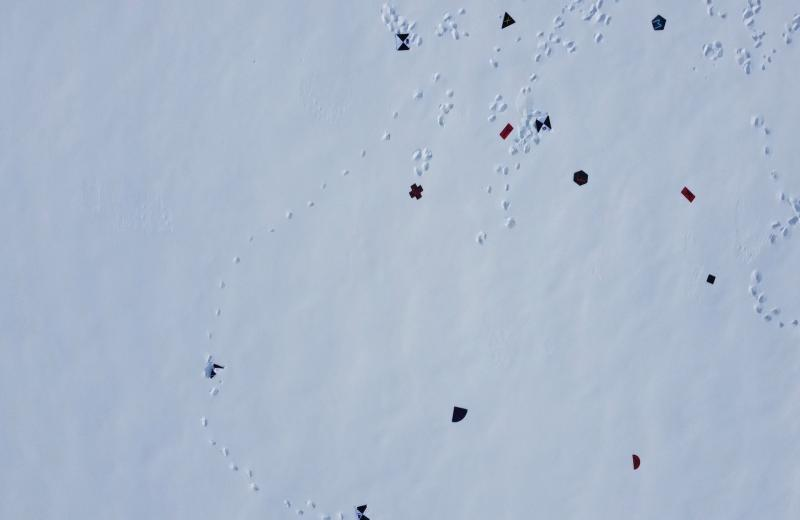Cross: (408, 184, 424, 202)
Hexagon: (572, 170, 590, 188)
Pentagon: (650, 14, 668, 32)
Quarter Circle: (451, 405, 468, 423)
Rectangle: (499, 122, 514, 141), (680, 187, 696, 204)
Semi Circle: (631, 453, 641, 470)
Square: (706, 274, 716, 284)
Triangle: (500, 10, 516, 31)
